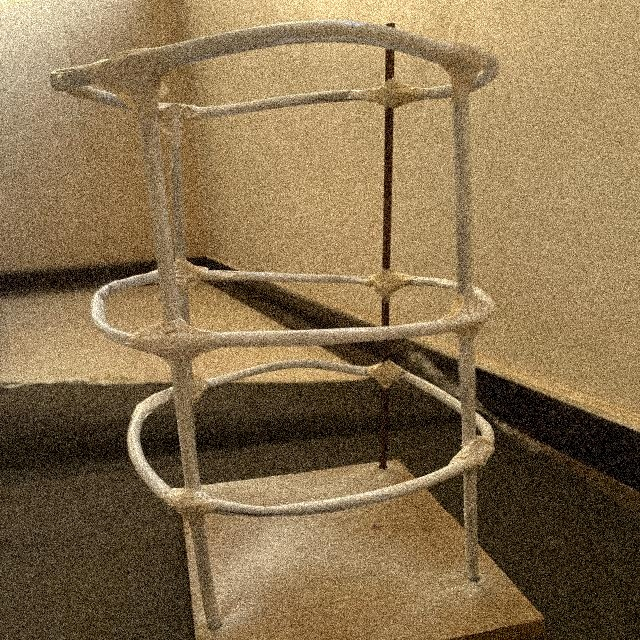silo: (53, 21, 564, 640)
